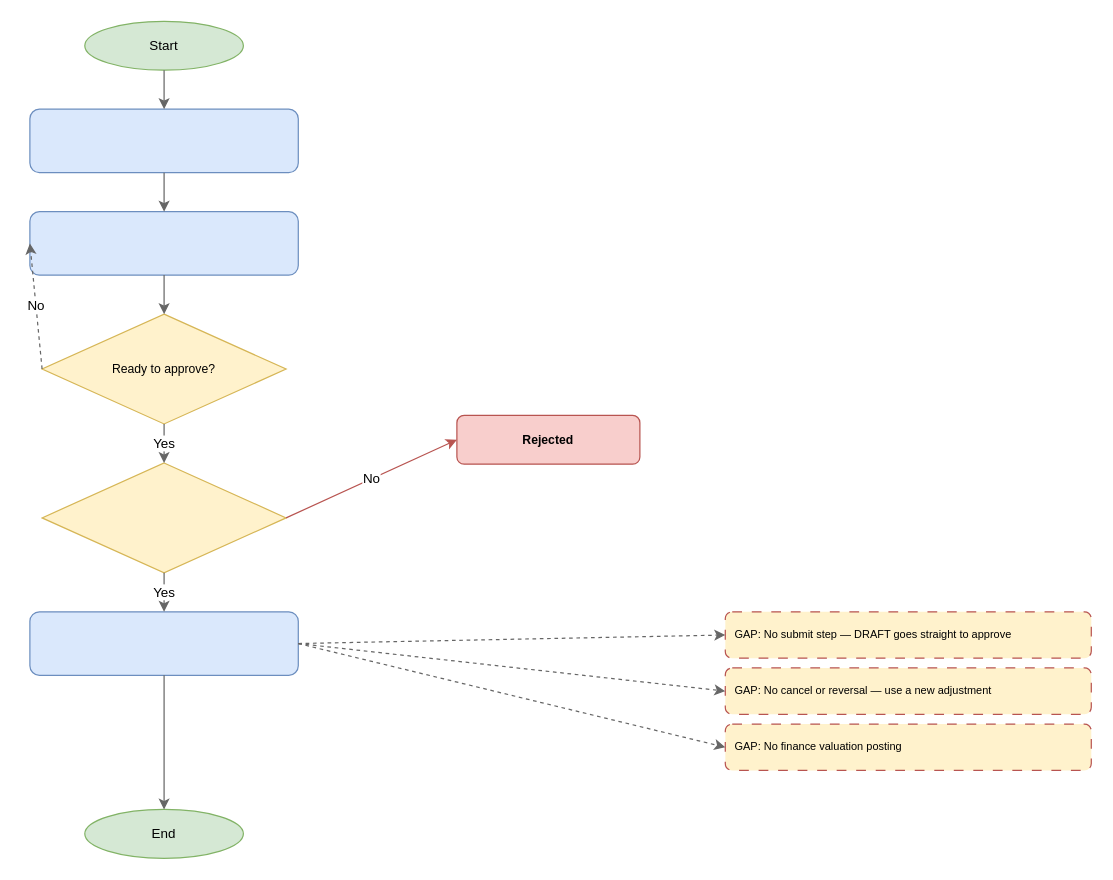
Image size: 1113x880. Some labels were removed from this diagram. Here are the shapes that lost their labels. From the top down, the box of each, then its label:
(29, 108, 298, 173): Create draft stock adjustment
(29, 210, 298, 275): Add lines with signed quantities (+ gain, − loss)
(41, 462, 286, 573): At least one item?
(29, 611, 298, 675): Approve: gain = stock IN, loss = stock OUT — APPROVED
